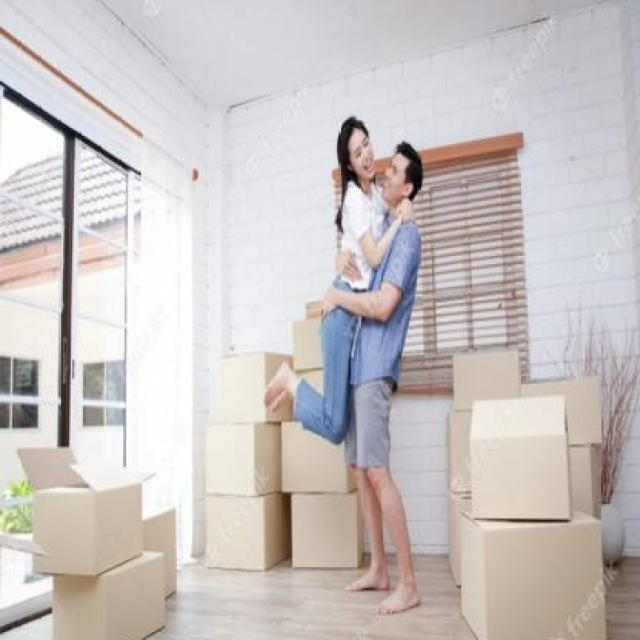box: (452, 509, 630, 640), (12, 433, 146, 581), (520, 367, 632, 537), (432, 348, 528, 509), (470, 395, 578, 532), (38, 559, 178, 640), (273, 416, 389, 511), (134, 502, 217, 605), (197, 489, 286, 584), (285, 487, 370, 579), (199, 341, 293, 421), (194, 417, 280, 498), (286, 310, 345, 393)
